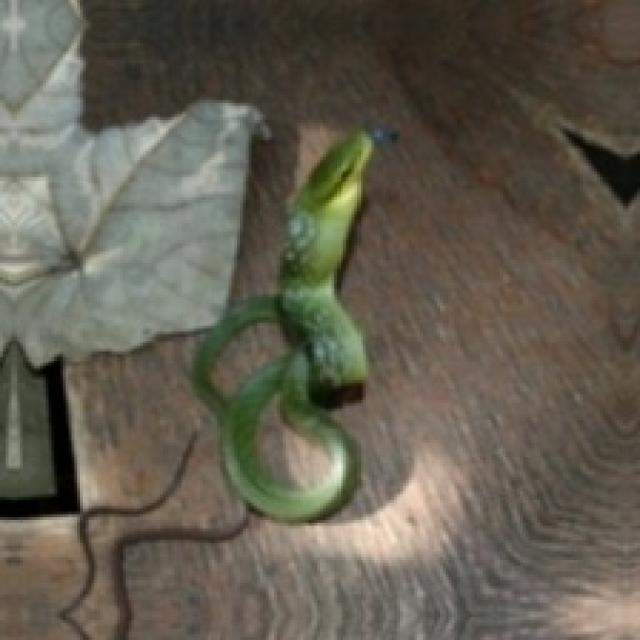red-tailed green ratsnake: (111, 129, 394, 637), (194, 129, 391, 520)
